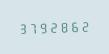eight: (57, 19, 66, 33)
nine: (37, 20, 46, 34)
seven: (27, 20, 36, 34)
six: (67, 19, 76, 33)
three: (17, 21, 26, 34)
two: (47, 20, 56, 33), (77, 19, 86, 32)
